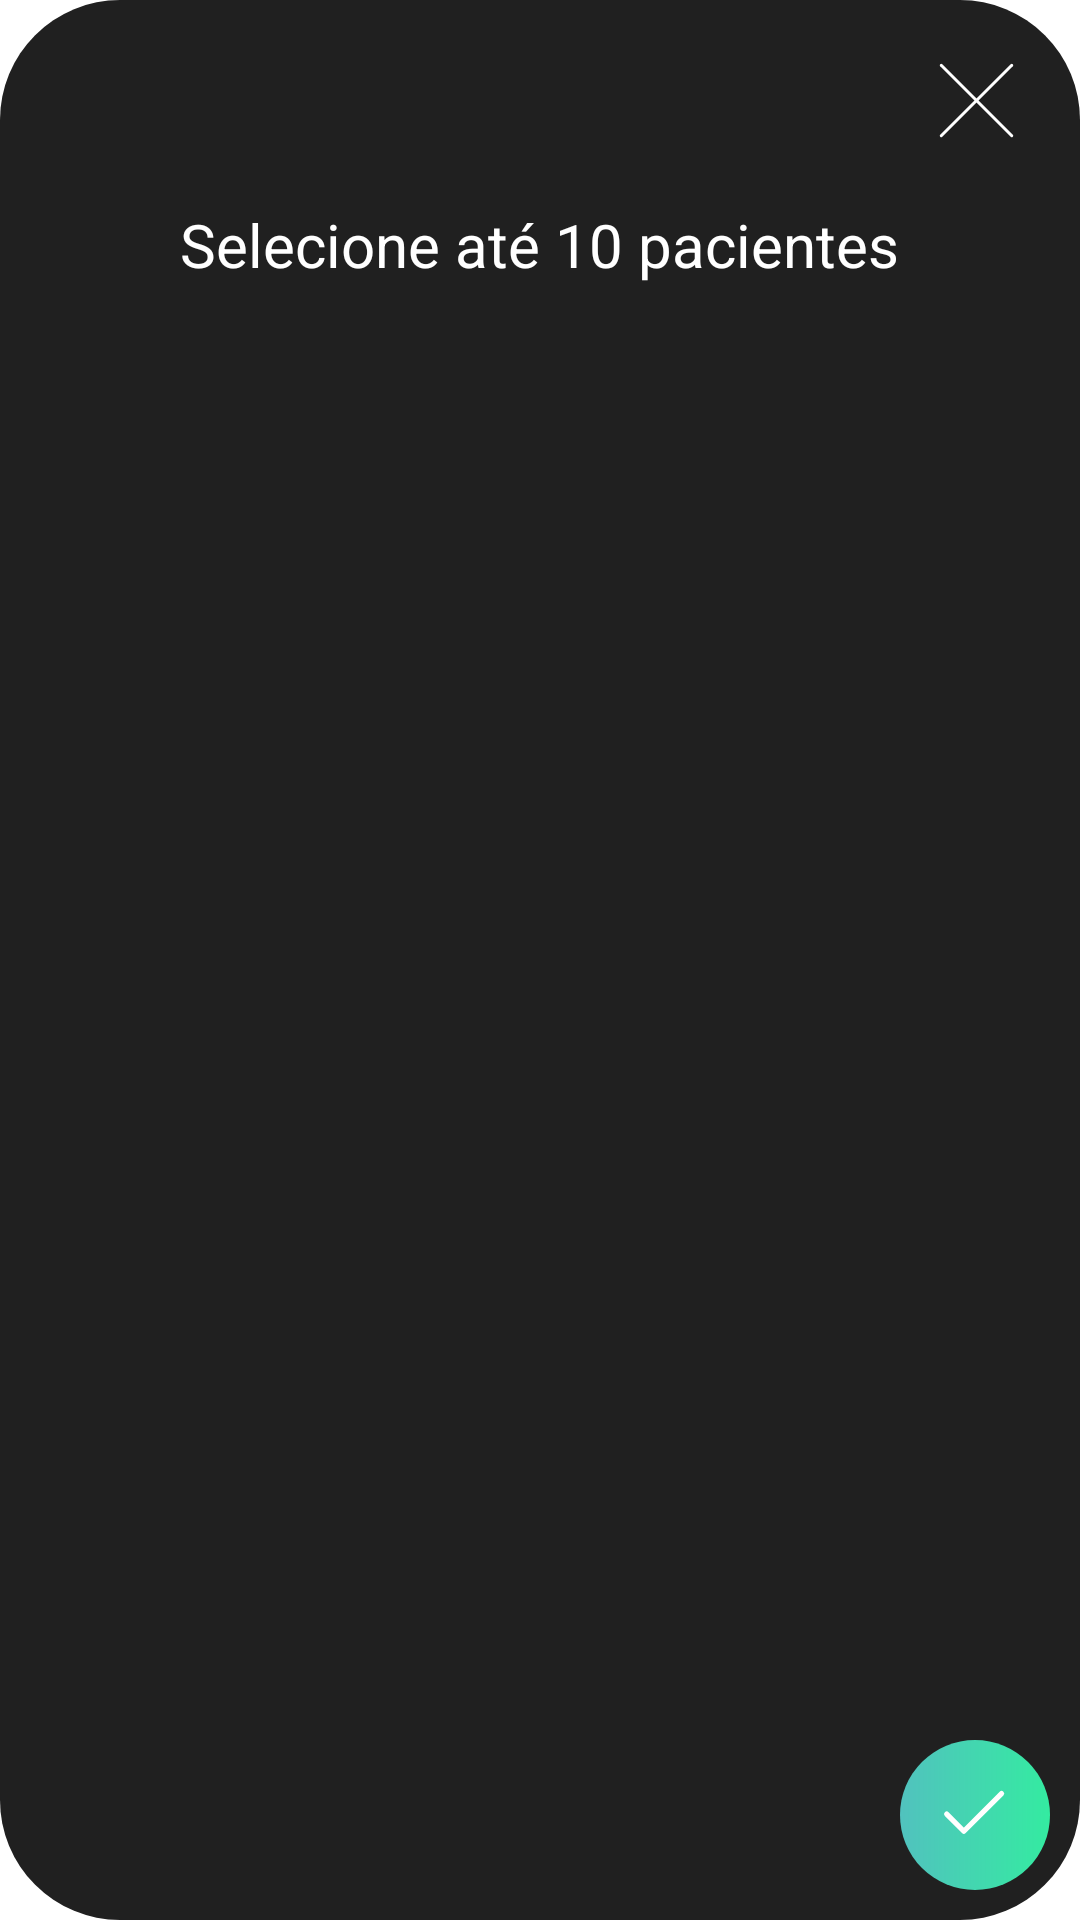

Where to tap for icons on this 1080*1920 app screen, as [x,y]:
close: [976,100]
